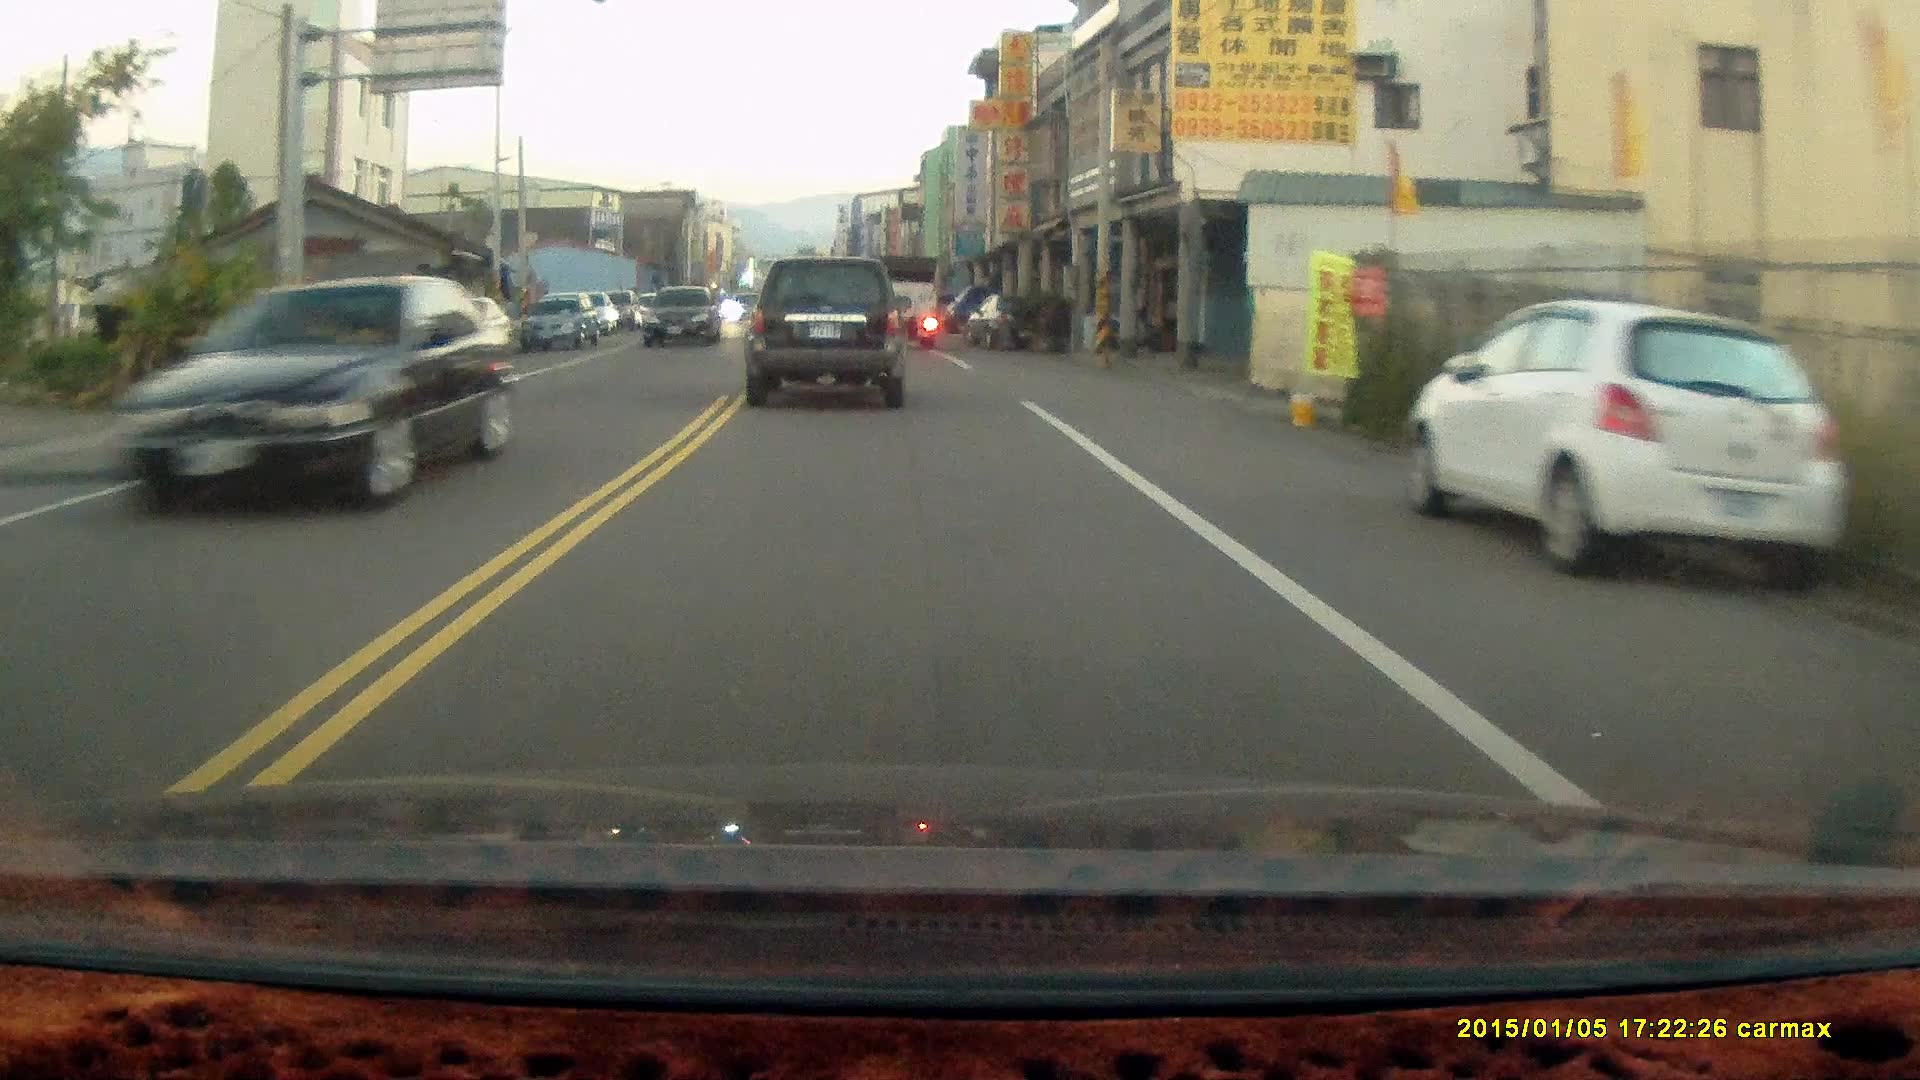vehicle: (1411, 305, 1850, 578), (82, 276, 501, 513), (744, 262, 916, 419), (860, 251, 944, 349), (641, 287, 725, 353), (516, 291, 597, 353)
